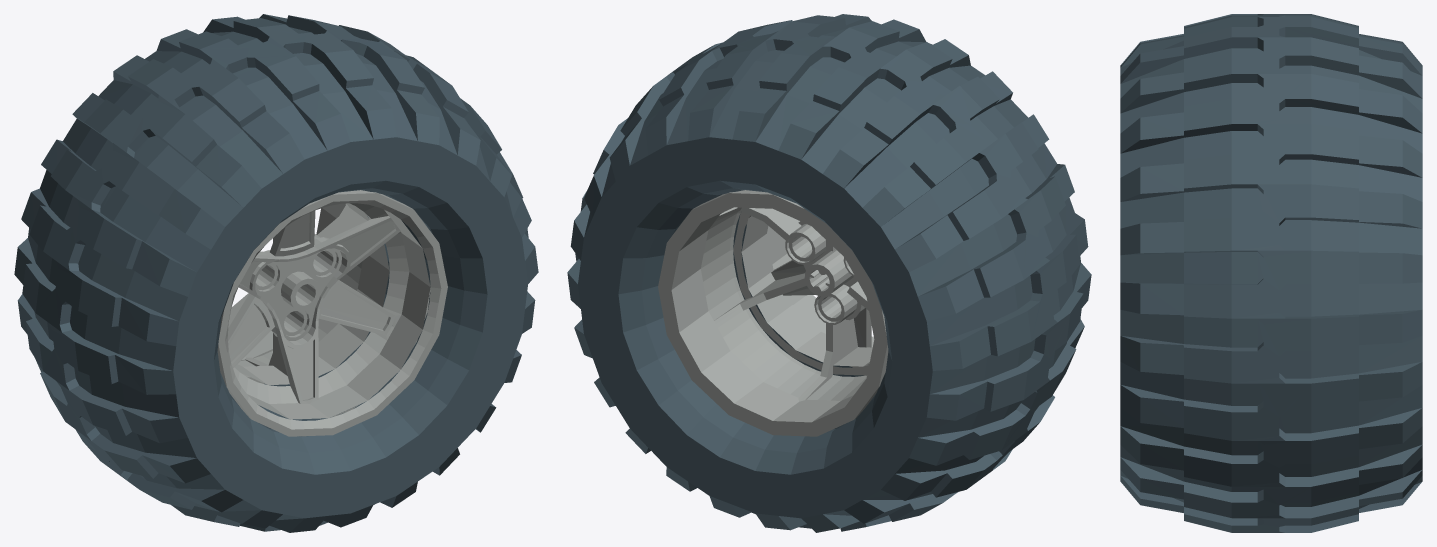
3 renders of one model, left to right at view 1: azimuth 30°, elevation 25°; view 2: azimuth 150°, elevation 25°; view 3: azimuth 270°, elevation 25°, orthographic.
Visible parts, largest first — view 1: world; view 2: world; view 3: world.
Boxes of the visible parts, left/top/right/bottom form: world: left=14, top=14, right=538, bottom=532; world: left=567, top=14, right=1091, bottom=532; world: left=1120, top=14, right=1422, bottom=532.
Size of the model in its own units: 0.1048 by 0.1048 by 0.0608.
